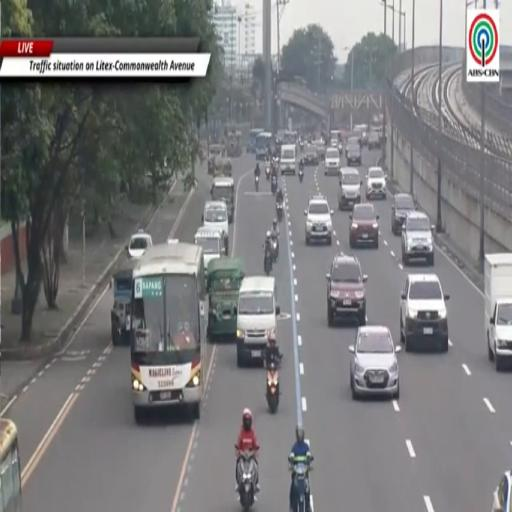bus: (130, 242, 208, 424), (0, 419, 22, 511), (256, 132, 272, 161), (248, 128, 263, 153), (283, 131, 297, 143)
car: (349, 326, 401, 399), (400, 275, 449, 351), (327, 254, 368, 326), (402, 212, 434, 266), (202, 201, 229, 253), (304, 197, 333, 245), (349, 203, 378, 248), (391, 194, 416, 234), (339, 168, 362, 210), (492, 471, 511, 511), (126, 230, 152, 259), (366, 167, 387, 200), (345, 140, 362, 166), (325, 148, 340, 175), (354, 124, 368, 146), (303, 146, 318, 166), (313, 141, 326, 161), (368, 132, 381, 150), (167, 237, 179, 245)
jeepney: (207, 258, 244, 340), (111, 261, 134, 345), (194, 227, 225, 274), (211, 178, 235, 223), (208, 144, 223, 173), (227, 131, 242, 157), (214, 156, 232, 177)
motorcycle: (289, 456, 313, 511), (237, 452, 255, 511), (266, 361, 279, 413), (264, 248, 273, 276), (271, 238, 279, 262), (276, 203, 283, 221), (271, 175, 277, 195), (265, 165, 270, 180), (298, 170, 303, 183), (255, 176, 259, 191), (300, 141, 303, 151)
truck: (484, 253, 511, 371)
